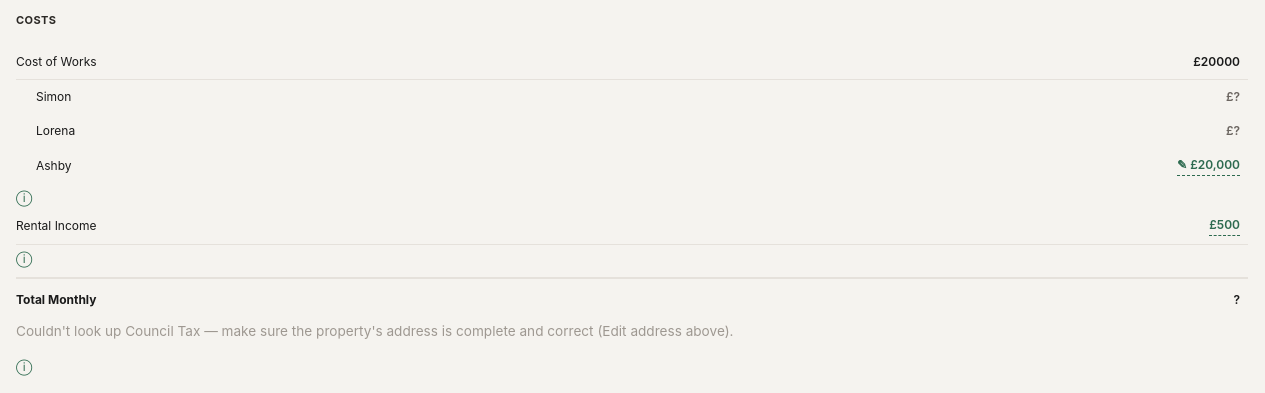
CostsSection works estimates › opens inline editor on click for current person
Click the text with class "costs-value--editable" showing "✎ £20,000" at (1209, 166), box 1177,156 -> 1240,176
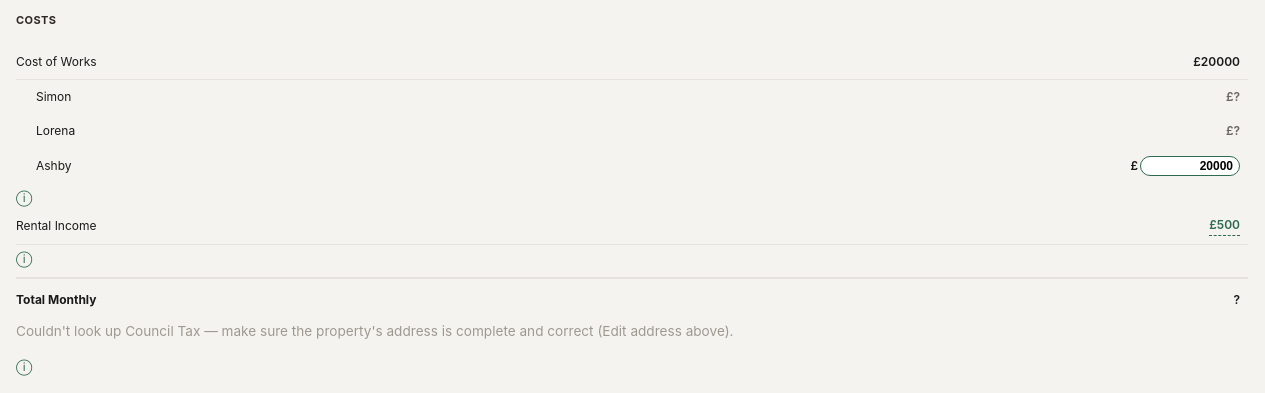
Result: the field is shown at 1140,156 -> 1240,176
